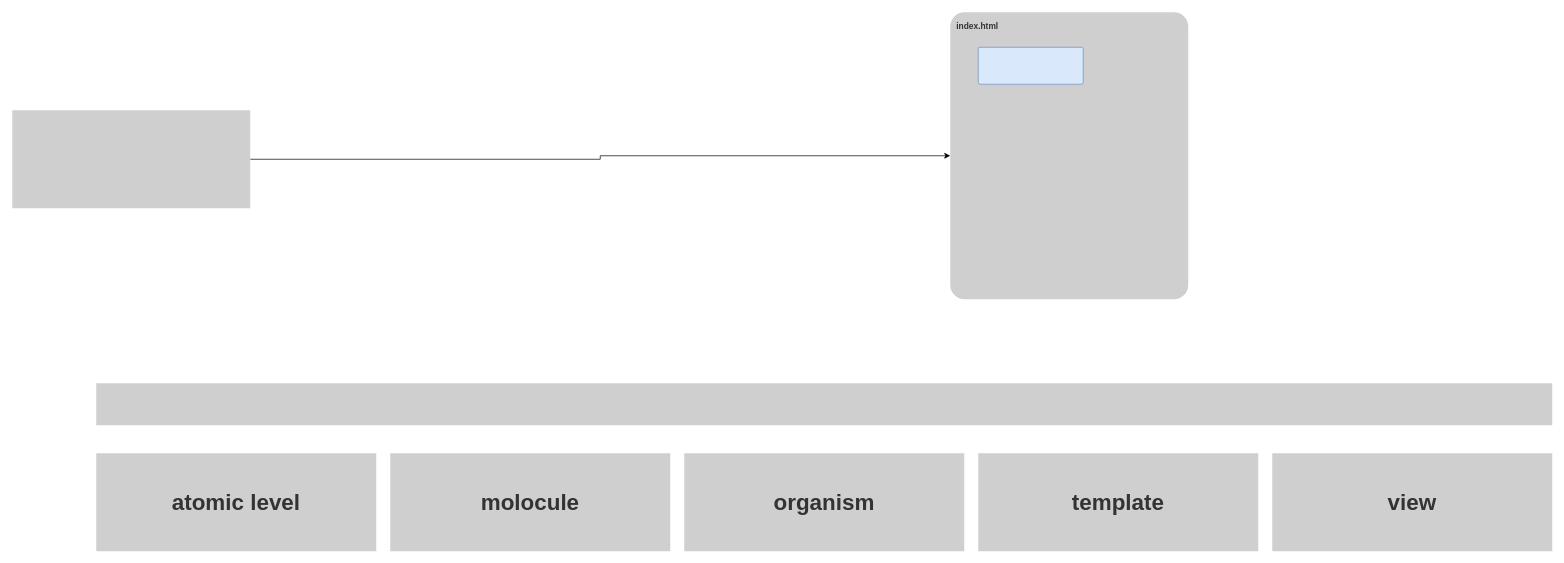
Some shapes in this 1564 by 563 pixel diagram are drawn without their labels. The shapes that lost their labels are listed below. From the top down, each one's centre as x and y in pixels, then its label:
At point 1030,65: "first land".
At point 131,159: "baseof.html".
At point 824,404: "atomic design".
